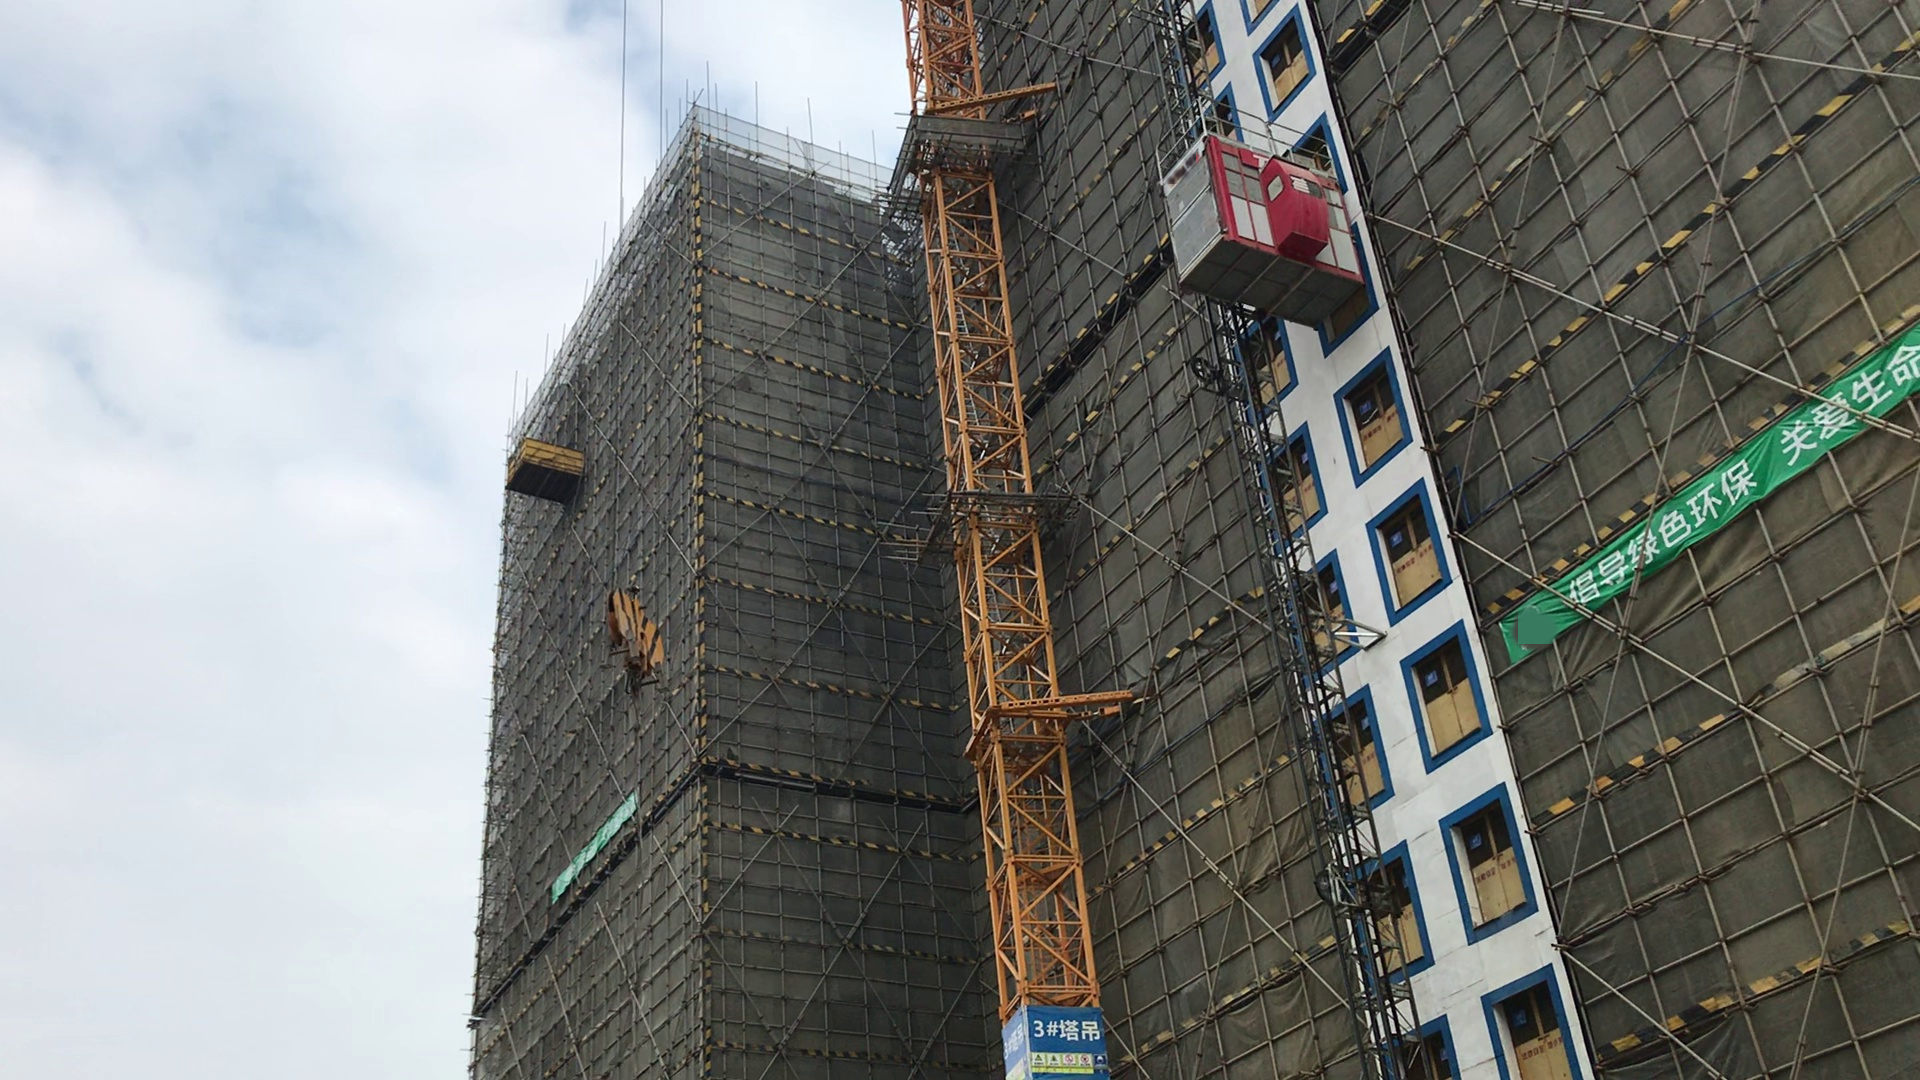hook: (593, 583, 676, 688)
slogan: (1513, 345, 1920, 657)
